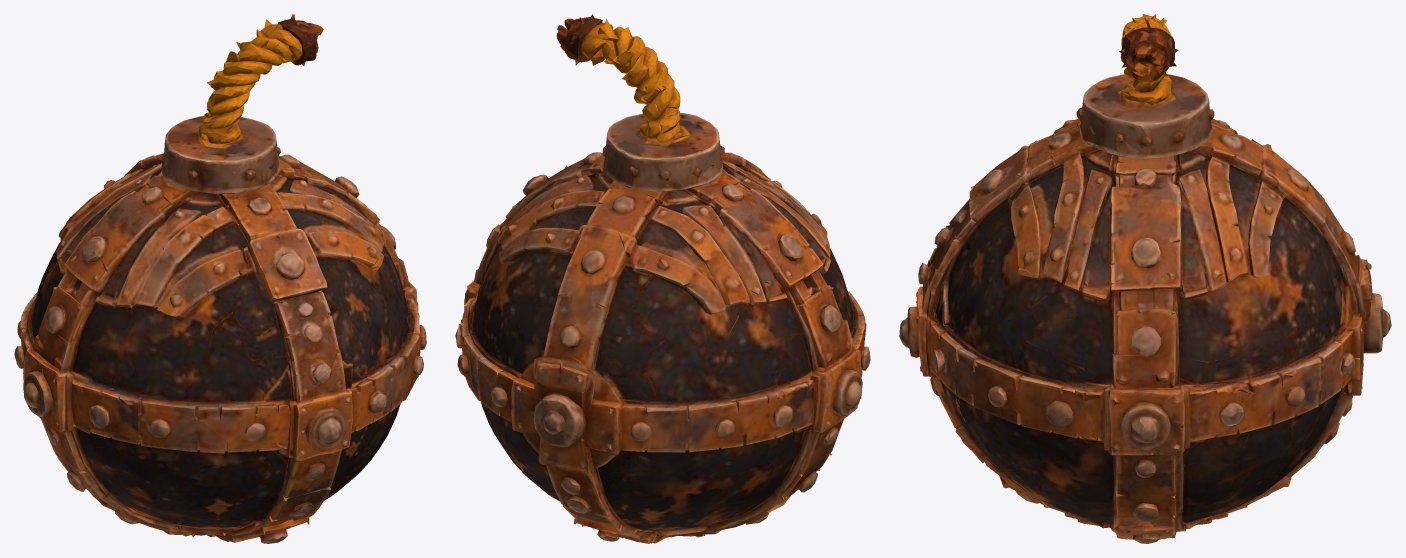
File: bomb.glb
The picture shows the model from 3 angles, left to right: view 1: azimuth 30°, elevation 25°; view 2: azimuth 150°, elevation 25°; view 3: azimuth 270°, elevation 25°; orthographic projection. The views are drawn at different scales.
Parts seen in each view (by area): view 1: Mesh_0; view 2: Mesh_0; view 3: Mesh_0.
Part boxes in pixels (left/top/right/bottom): Mesh_0: left=14, top=14, right=426, bottom=543; Mesh_0: left=455, top=14, right=870, bottom=543; Mesh_0: left=899, top=14, right=1391, bottom=543.
Bounding box in the file's own units: 1.55 × 1.9 × 1.55.
1 material, 1 textured.
